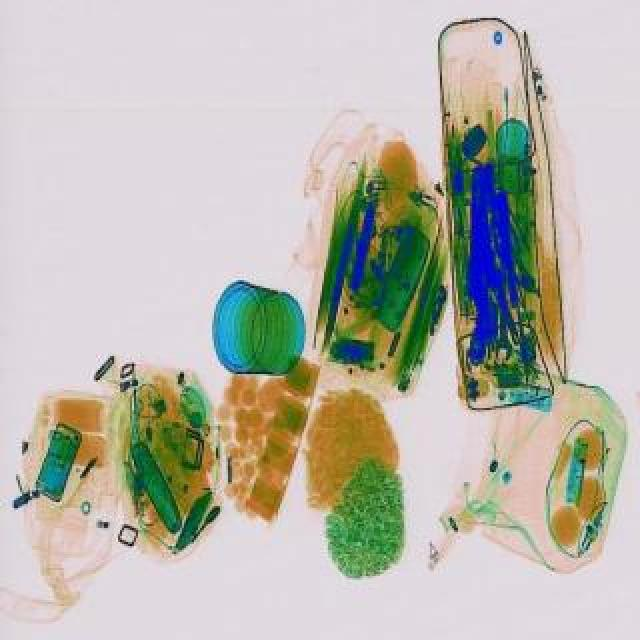scissors: (492, 286, 512, 360)
